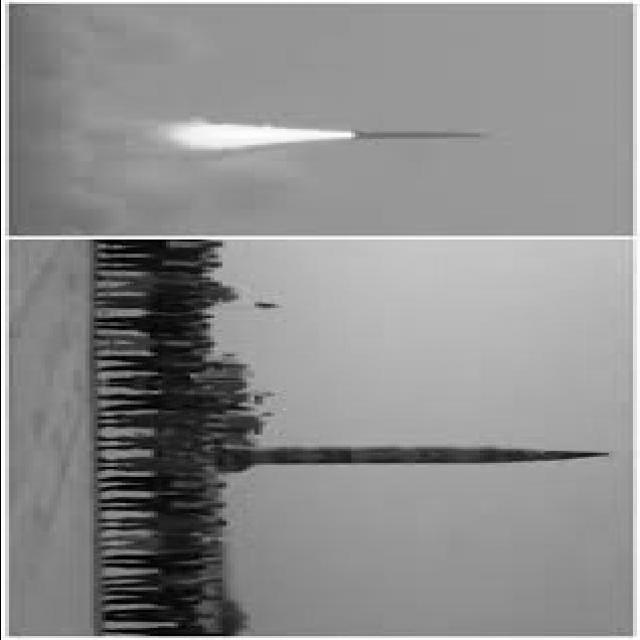Missile: (211, 442, 607, 474), (339, 124, 484, 147)
